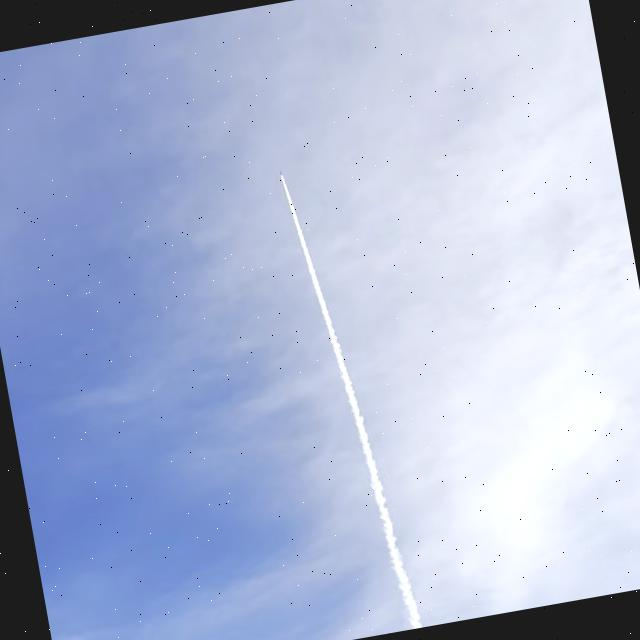smoke_trail_with_rocket: (292, 214, 422, 629)
